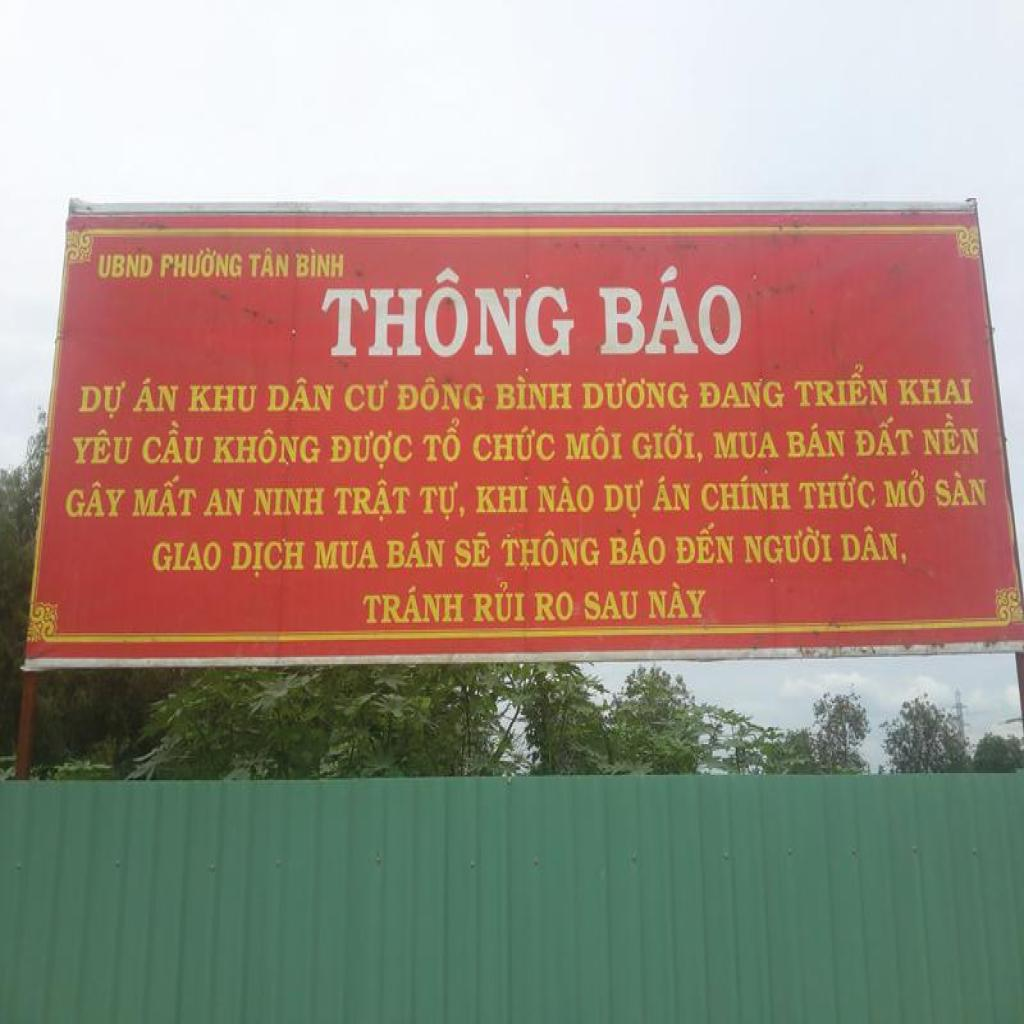text: (320, 266, 579, 362), (595, 260, 749, 360), (212, 427, 324, 471), (791, 362, 891, 411), (361, 582, 467, 628), (499, 529, 602, 574), (330, 476, 414, 528), (580, 375, 691, 413), (471, 422, 559, 468), (742, 524, 834, 567), (700, 474, 794, 516), (329, 428, 416, 473), (397, 376, 489, 416), (130, 473, 204, 522), (798, 471, 880, 515), (228, 538, 308, 582), (140, 418, 208, 469), (631, 422, 705, 468), (160, 244, 246, 283), (696, 377, 788, 413), (494, 374, 576, 414), (840, 522, 910, 568), (63, 478, 132, 524), (147, 537, 225, 577), (920, 411, 983, 459), (607, 524, 669, 572), (69, 425, 136, 469), (265, 376, 337, 416), (535, 474, 598, 519), (675, 522, 736, 568), (471, 580, 529, 628), (896, 376, 977, 410), (384, 529, 445, 574), (251, 485, 330, 519), (854, 415, 915, 459), (564, 423, 626, 466), (784, 422, 848, 462), (312, 538, 383, 574), (416, 478, 468, 526), (186, 382, 260, 415), (712, 428, 783, 462), (934, 469, 990, 512), (77, 377, 129, 423), (881, 466, 929, 514), (421, 416, 465, 468), (581, 587, 641, 625), (294, 244, 348, 283), (474, 483, 532, 519), (603, 476, 648, 522), (649, 471, 695, 515), (130, 376, 180, 416), (342, 376, 390, 416), (452, 529, 494, 574), (200, 483, 248, 521), (95, 252, 155, 282), (531, 589, 577, 626), (248, 244, 290, 283)
